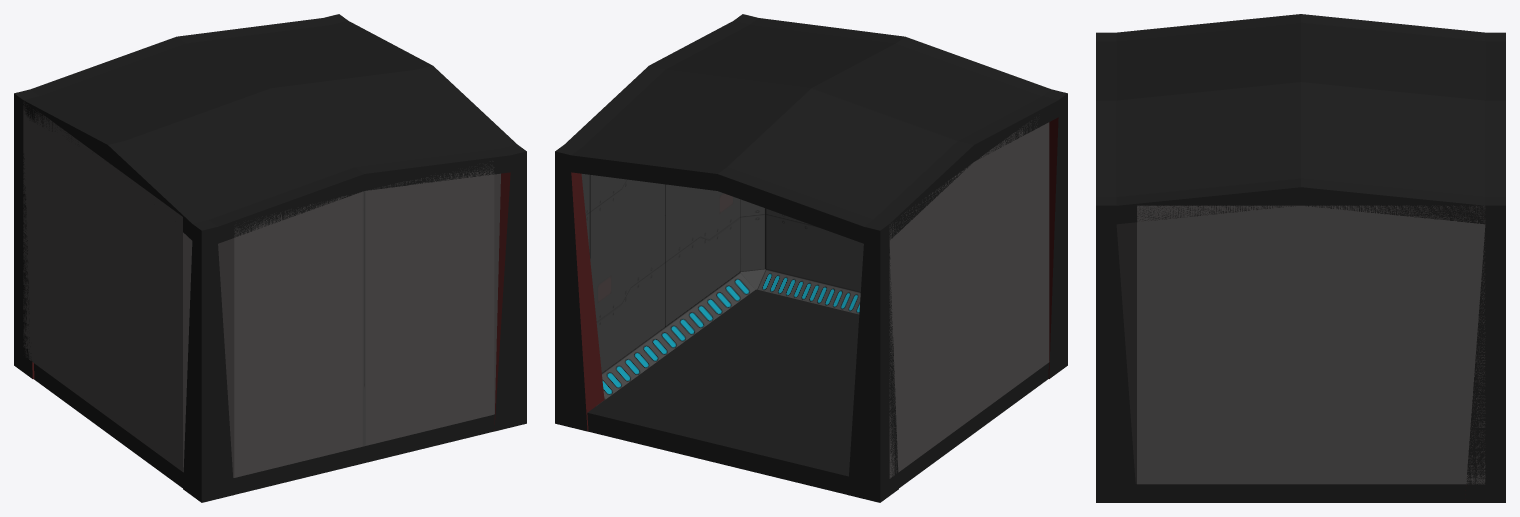
File: EndCap.fbx
3 renders of one model, left to right at view 1: azimuth 30°, elevation 25°; view 2: azimuth 150°, elevation 25°; view 3: azimuth 270°, elevation 25°, orthographic. The views are drawn at different scales.
Parts seen in each view (by area): view 1: Walls.003, Ceiling.002, FloorStraight.002; view 2: Ceiling.002, Walls.003, FloorStraight.002; view 3: Walls.003, Ceiling.002, FloorStraight.002.
Part boxes in pixels (x1,y1,x2,y2): Walls.003: (23, 101, 500, 477); Ceiling.002: (14, 14, 526, 502); FloorStraight.002: (34, 363, 494, 494); Ceiling.002: (555, 14, 1067, 502); Walls.003: (581, 117, 1049, 478); FloorStraight.002: (587, 289, 1048, 494); Walls.003: (1116, 205, 1485, 484); Ceiling.002: (1096, 14, 1505, 502); FloorStraight.002: (1135, 484, 1466, 502).
Bounding box in the file's own units: 20 × 18.05 × 20.
3 materials, 2 textured.
